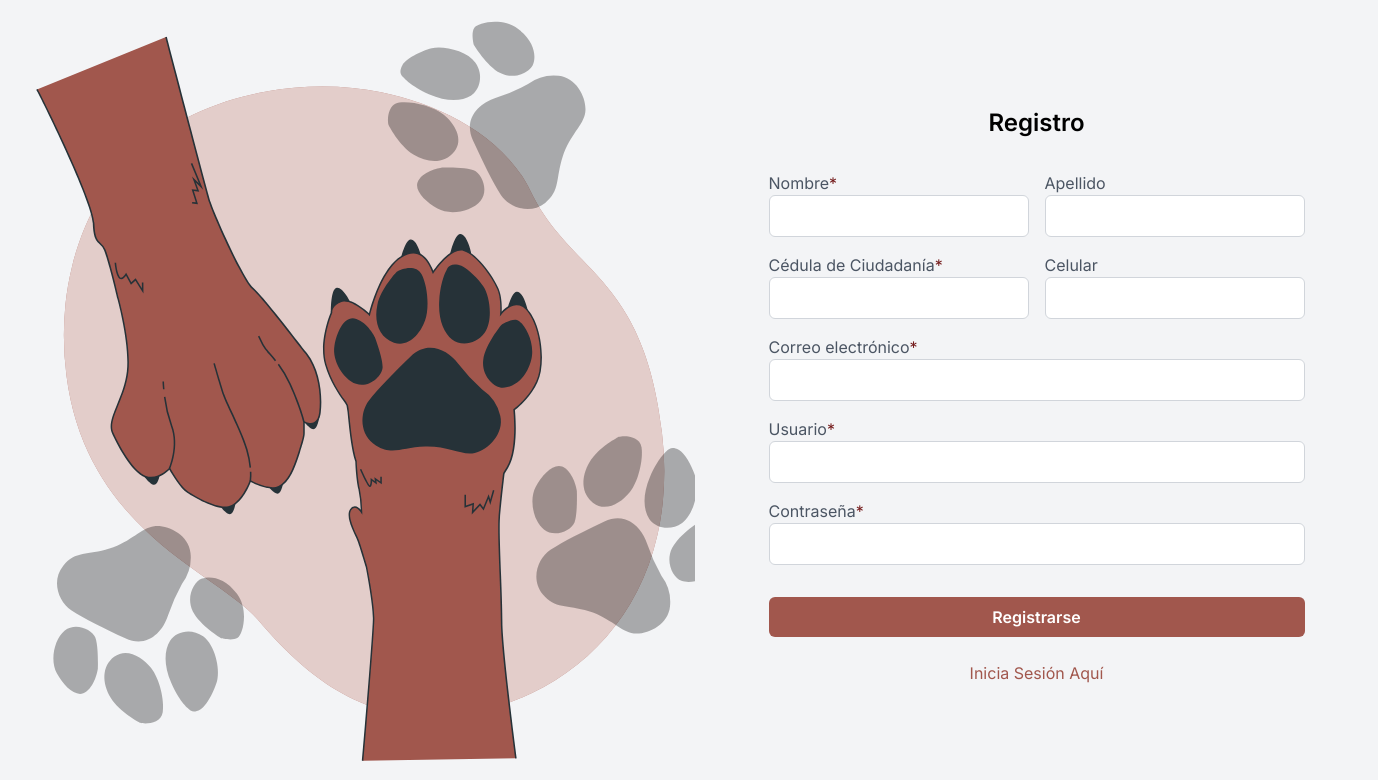
Test case: SignUp Component › debería mostrar errores de validación si se intenta enviar el formulario vacío
Step 1. Type "0" into the number field labelled "Celular" → [1174, 298], box [1044,277,1304,319]
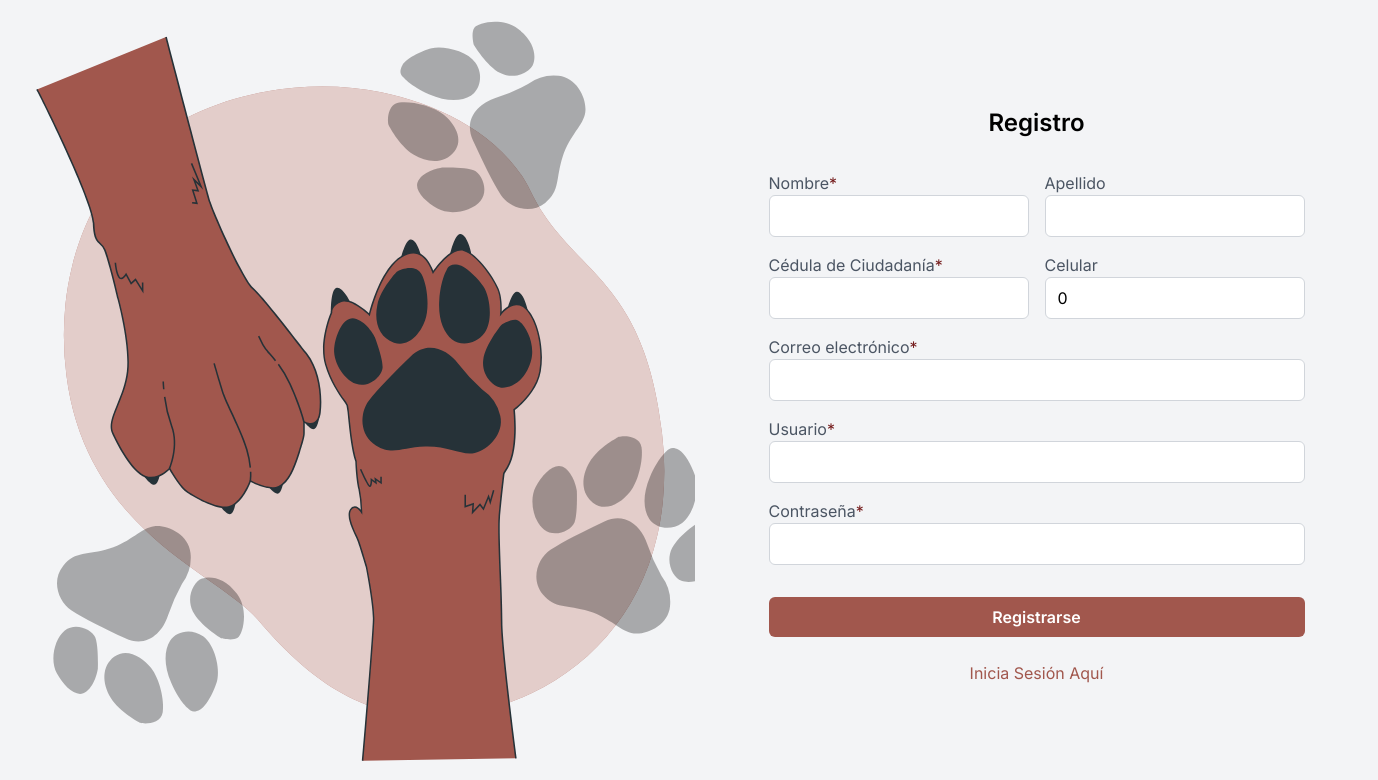
Step 2. Click the button "Registrarse" → [1036, 617], box [768,597,1304,637]
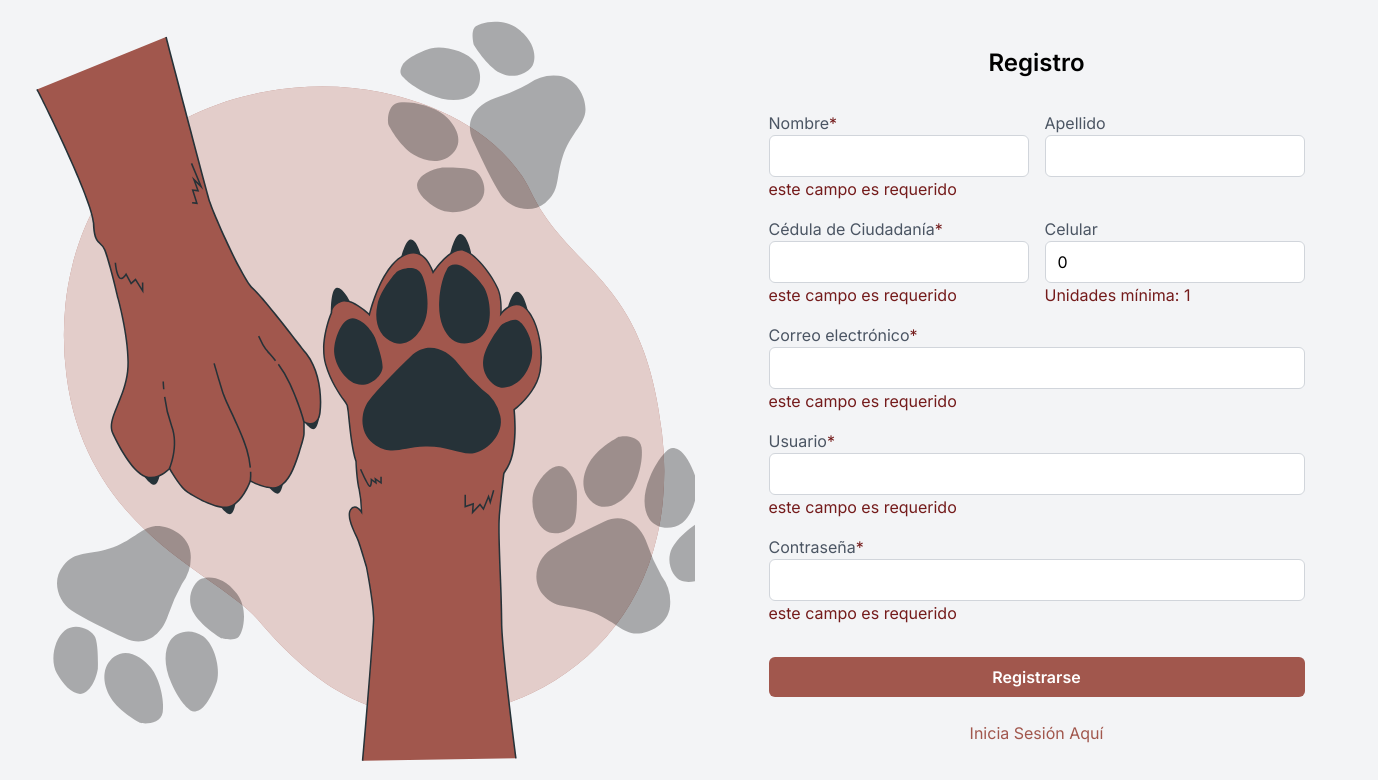
Now the text "este campo es requerido" is shown 5 times, box [768,179,957,199]; [768,285,957,305]; [768,391,957,411]; [768,497,957,517]; [768,603,957,623]
Now the text "Unidades mínima: 1" is shown once, box [1044,285,1190,305]
